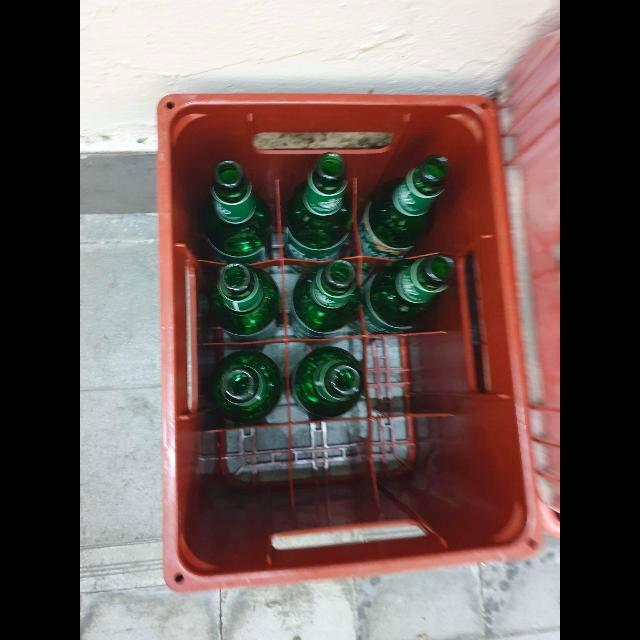glass_bottle: (359, 155, 451, 258), (284, 153, 354, 262), (202, 160, 273, 265), (363, 254, 455, 334), (210, 351, 284, 428), (290, 346, 365, 419), (211, 263, 281, 340), (291, 260, 358, 338)
